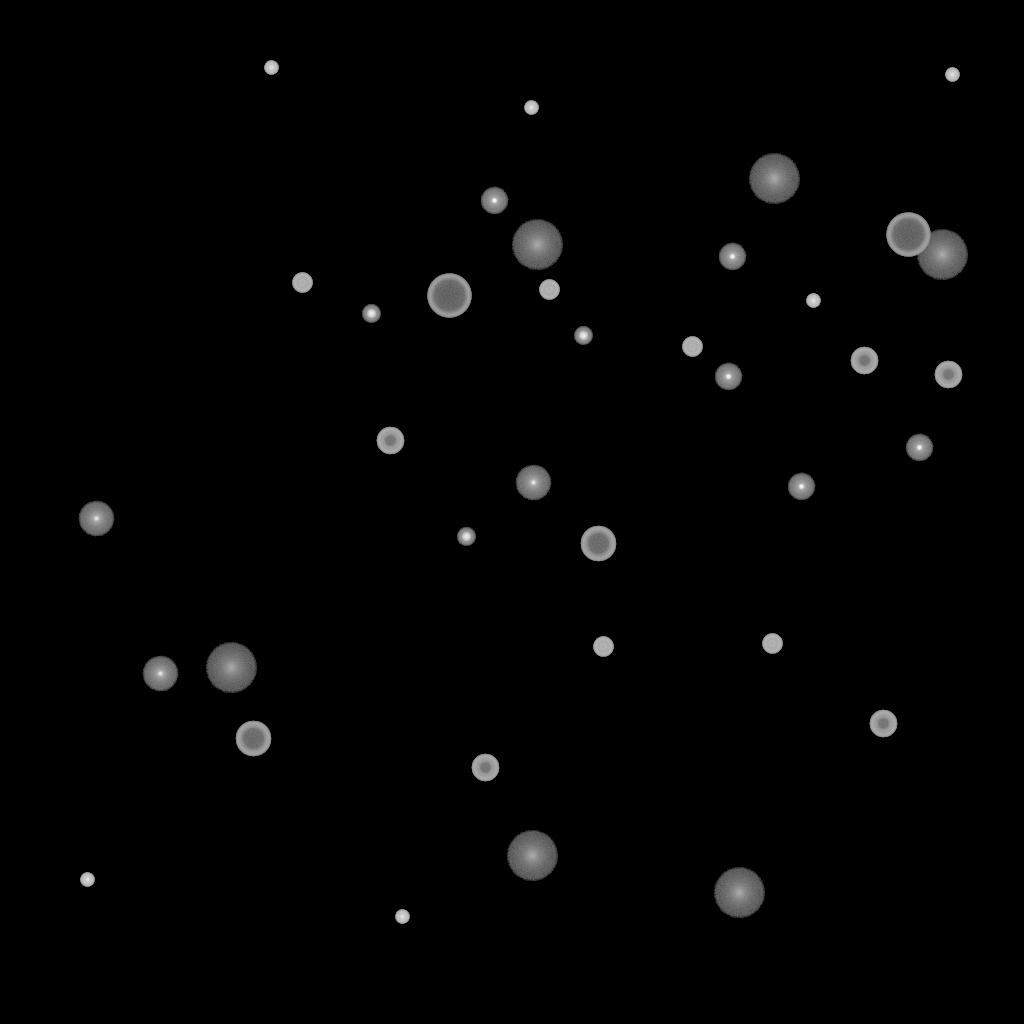depth:-10: (787, 473, 815, 501), (905, 434, 933, 462), (714, 363, 742, 391), (718, 243, 746, 271), (480, 187, 508, 215)
depth:-20: (457, 528, 475, 546), (574, 327, 592, 345), (362, 305, 380, 323)
depth:-30: (945, 68, 959, 82), (80, 873, 94, 887), (264, 61, 278, 75), (806, 294, 820, 308), (395, 910, 409, 924), (524, 101, 538, 115)
depth:-40: (292, 273, 312, 293), (682, 337, 702, 357), (593, 637, 613, 657), (539, 280, 559, 300), (762, 634, 782, 654)
depth:-50: (850, 347, 878, 375), (471, 754, 499, 782), (869, 710, 897, 738), (934, 361, 962, 389), (376, 427, 404, 455)
depth:-60: (235, 721, 271, 757), (580, 526, 616, 562)
depth:-70: (886, 213, 930, 257), (427, 274, 471, 318)
depth:0: (515, 465, 551, 501), (78, 501, 114, 537), (142, 656, 178, 692)
depth:20: (748, 154, 800, 204), (713, 868, 765, 918), (916, 230, 968, 280), (205, 643, 257, 693), (511, 220, 563, 270), (506, 831, 558, 881)
